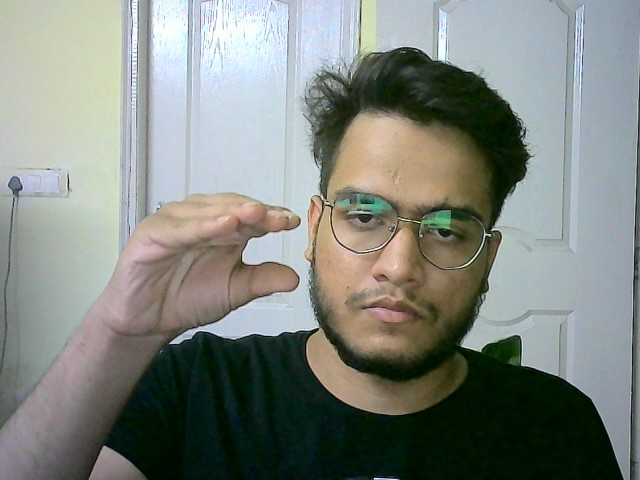No: (92, 182, 306, 338)
